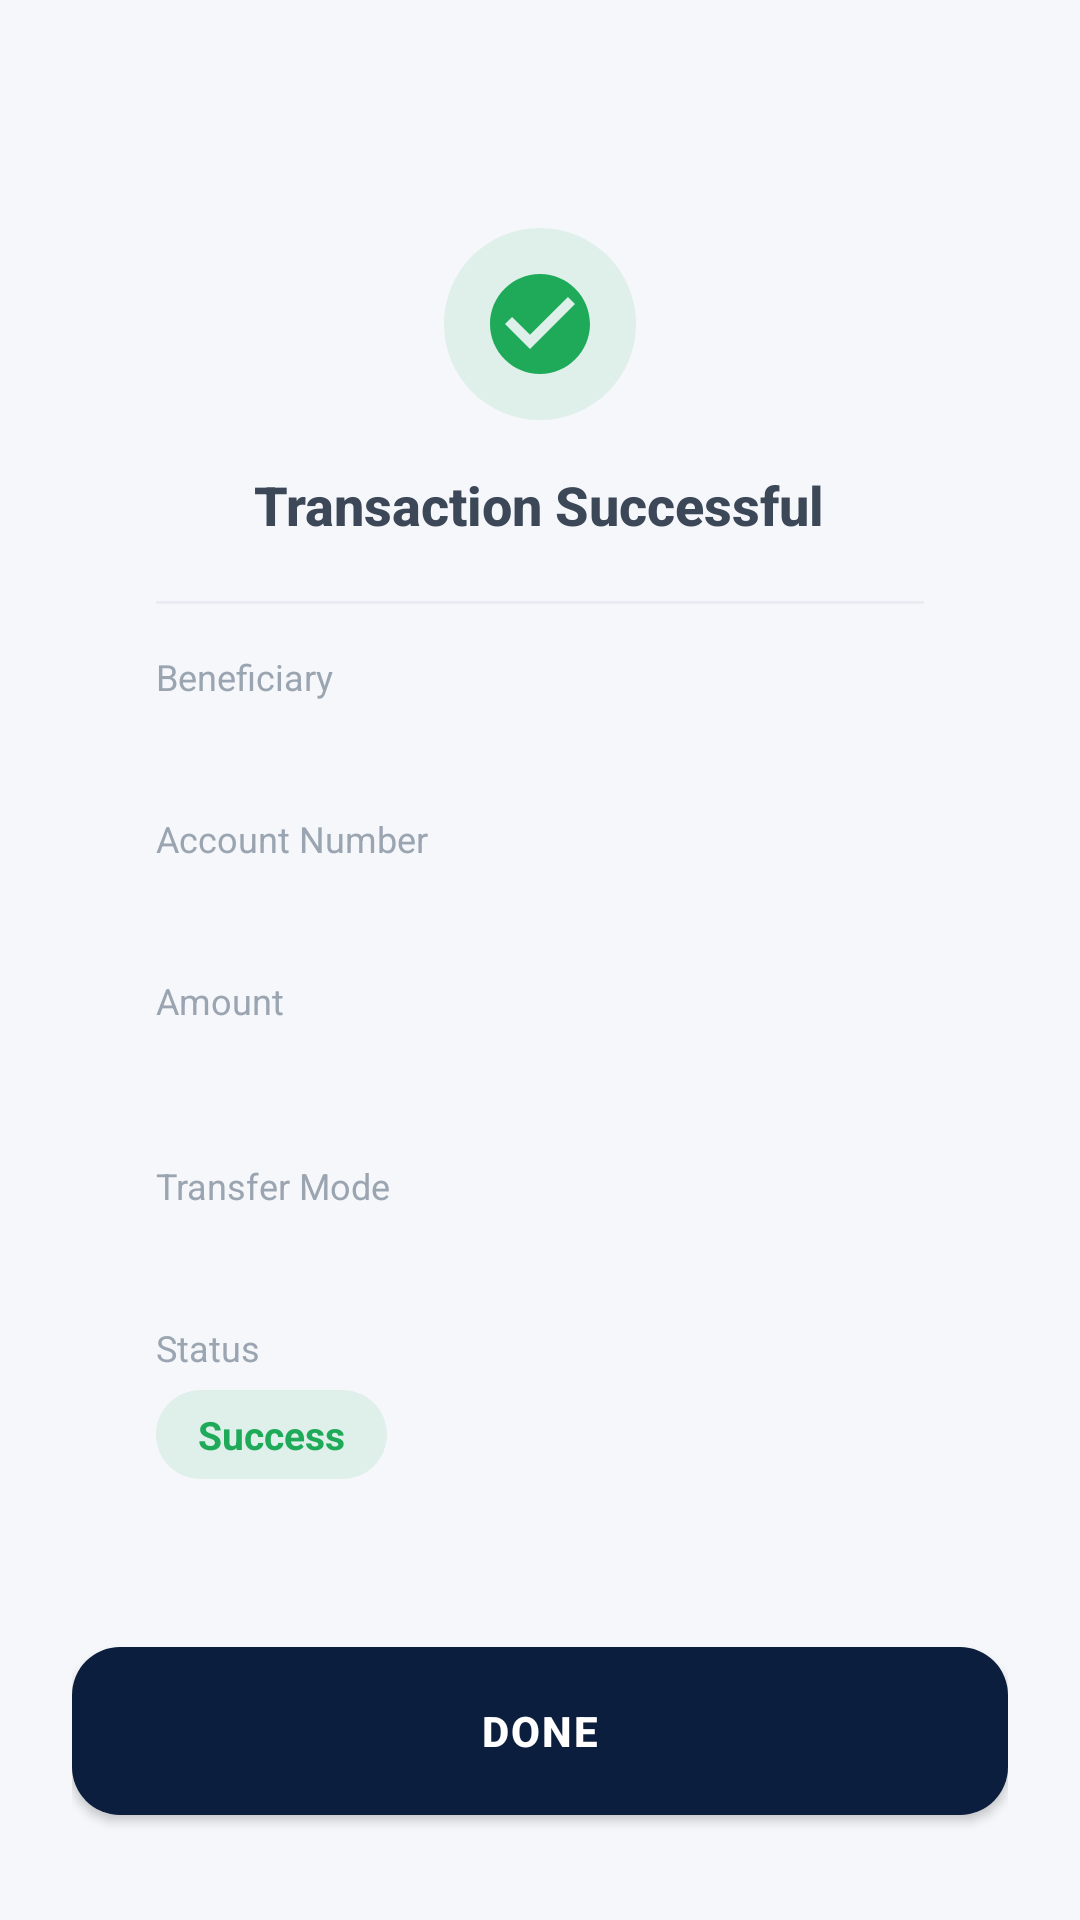

Screen size 1080 x 1920. Icon name, then its center in pixels as point (x, y):
check circle: point (540, 324)
